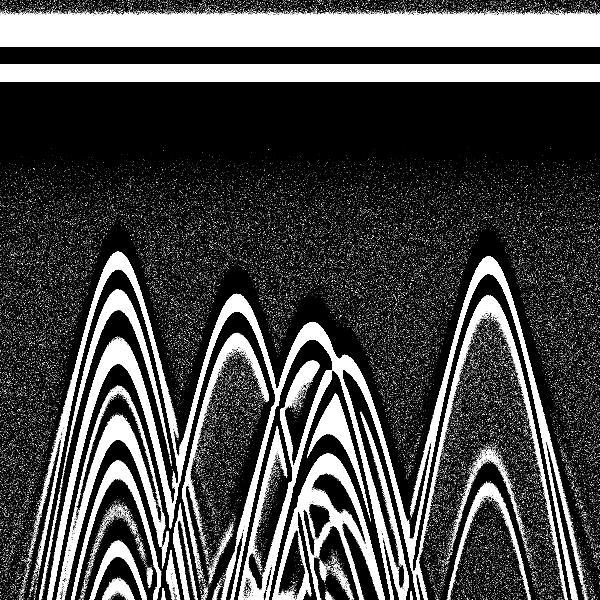pipe: (298, 5, 393, 434), (262, 6, 357, 406), (190, 5, 280, 373), (69, 6, 167, 340), (441, 6, 532, 341)
